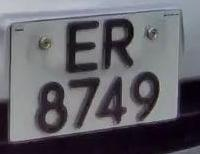4: (96, 73, 130, 128)
7: (67, 76, 102, 133)
8: (29, 75, 71, 140)
9: (126, 67, 166, 128)
E: (57, 16, 104, 77)
R: (98, 11, 137, 74)
